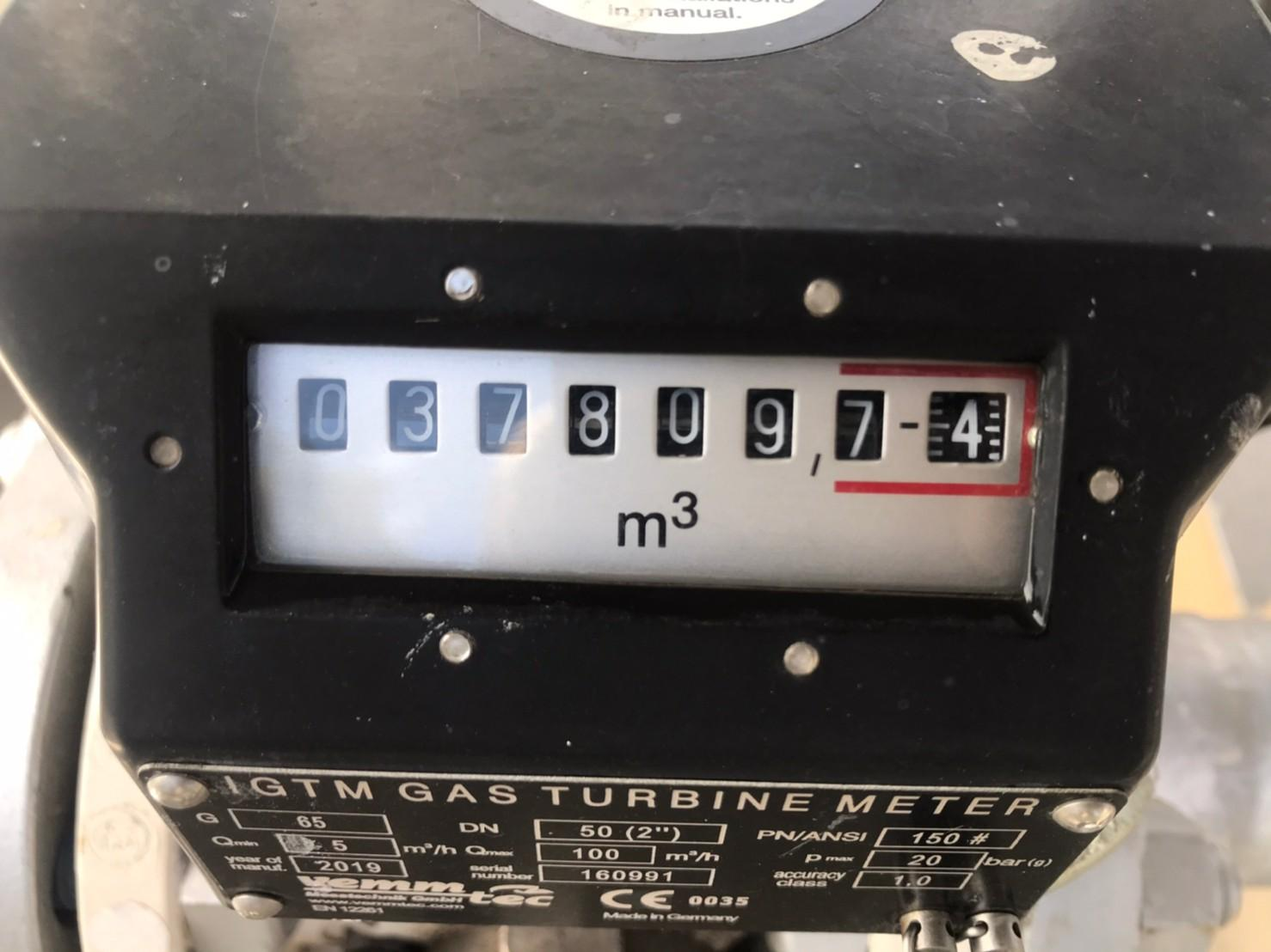analog_dial: (240, 326, 1042, 599)
